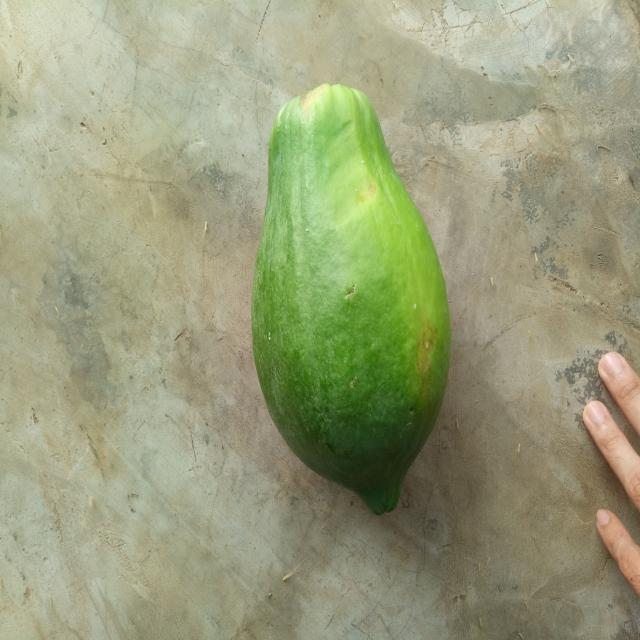Pepaya unrippen: (242, 70, 467, 520)
